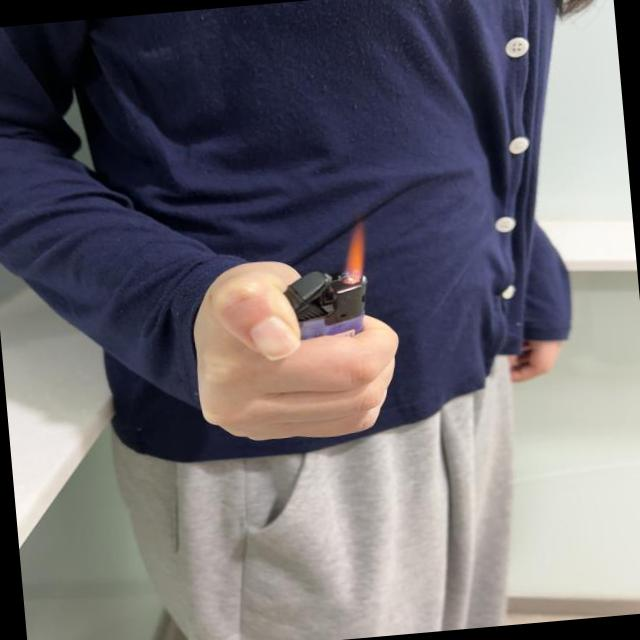Fire: (336, 214, 370, 285)
